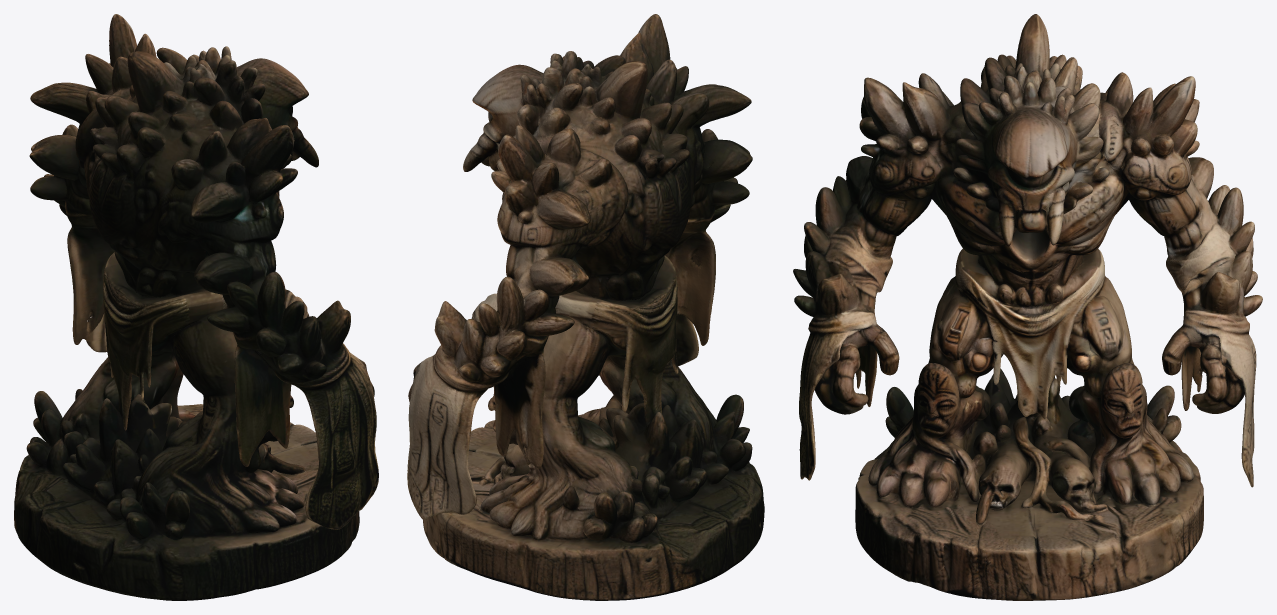
Rendered from wooden+golem+3d+model.glb.
The picture shows the model from 3 angles, left to right: view 1: azimuth 30°, elevation 25°; view 2: azimuth 150°, elevation 25°; view 3: azimuth 270°, elevation 25°; orthographic projection. The views are drawn at different scales.
Visible parts, largest first — view 1: tripo_node_9a8a47d6-345b-476e-8619-85273ffd4ed6; view 2: tripo_node_9a8a47d6-345b-476e-8619-85273ffd4ed6; view 3: tripo_node_9a8a47d6-345b-476e-8619-85273ffd4ed6.
Boxes of the visible parts, x1,y1,x2,y2 form: tripo_node_9a8a47d6-345b-476e-8619-85273ffd4ed6: (14, 14, 378, 600); tripo_node_9a8a47d6-345b-476e-8619-85273ffd4ed6: (407, 14, 764, 600); tripo_node_9a8a47d6-345b-476e-8619-85273ffd4ed6: (793, 14, 1262, 600).
Bounding box in the file's own units: 0.6286 × 1 × 0.8585.
Materials: 1 (1 with a texture image).
